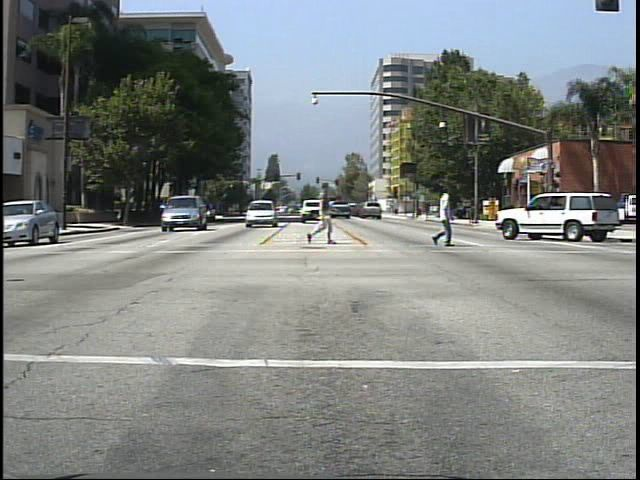person: (426, 177, 463, 254), (302, 175, 339, 249)
